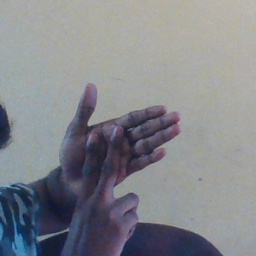N: (50, 81, 190, 245)
